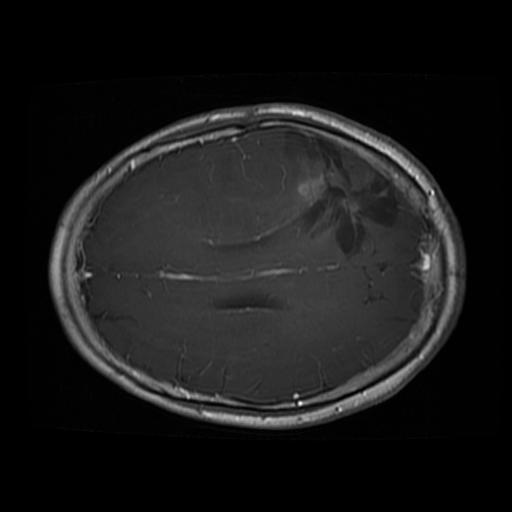glioma: (281, 126, 400, 259)
